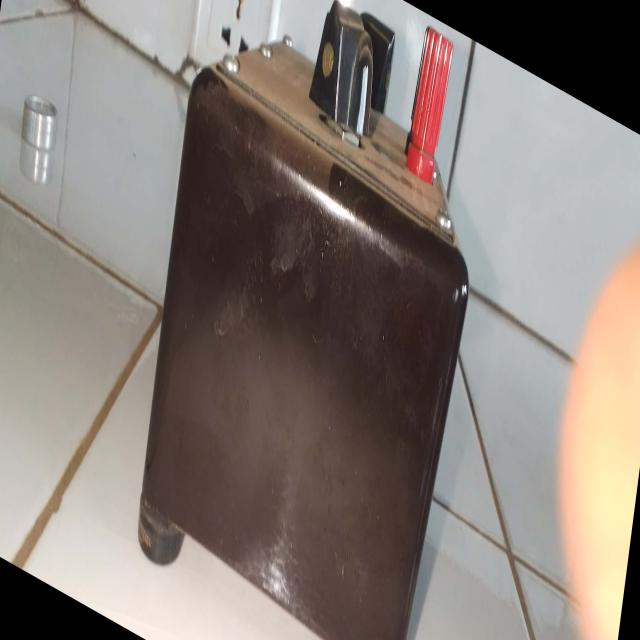Decade Capacitance Box: (119, 0, 502, 640)
